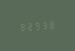eight: (18, 21, 25, 31), (50, 19, 57, 29)
nine: (34, 20, 41, 30)
three: (42, 19, 49, 30)
two: (26, 20, 33, 31)
